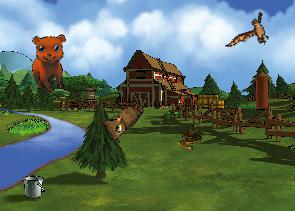bear: (24, 29, 78, 95)
eagle: (225, 4, 278, 62)
owl: (96, 91, 146, 145)
